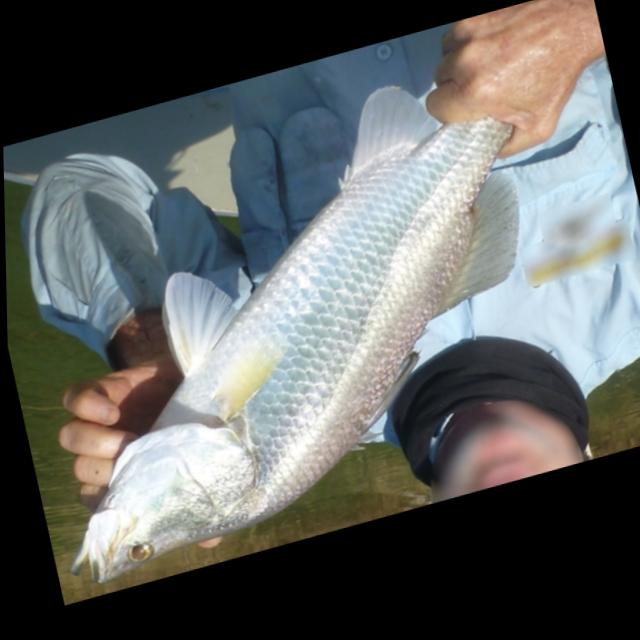Seabass: (2, 47, 591, 599)
